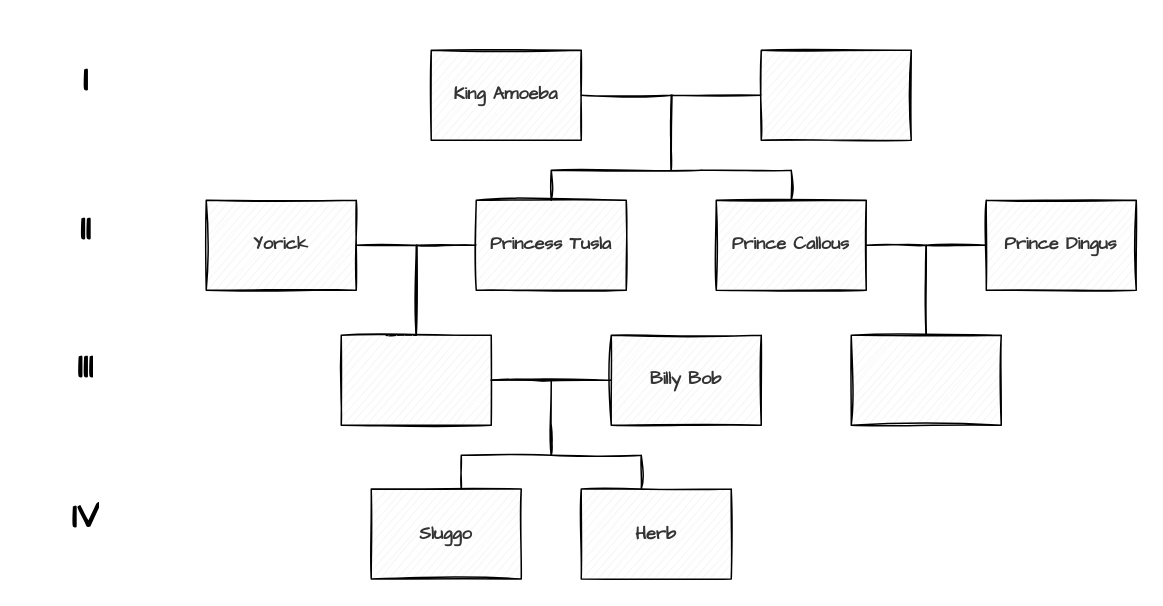
The diagram is 1163 pixels wide and 606 high, and some of its shapes have lost their labels. Here are the shapes that lost their labels. From the top down, the box of each, then its label:
(760, 49, 911, 140): Queen Mildew
(340, 334, 491, 425): Maw Tucket
(850, 334, 1001, 425): Carl
